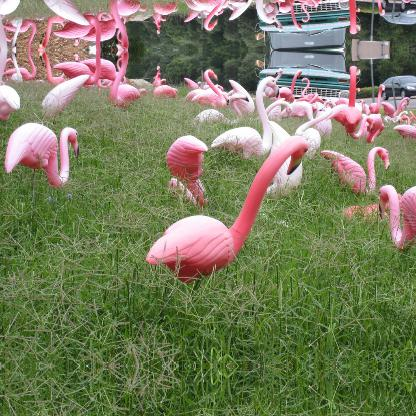Bird: (184, 66, 416, 230), (147, 135, 302, 299), (0, 49, 149, 124), (3, 120, 80, 232), (184, 0, 415, 33), (0, 0, 149, 50), (320, 142, 390, 196), (377, 183, 415, 250), (336, 200, 390, 225), (153, 0, 176, 33), (153, 66, 175, 98)
